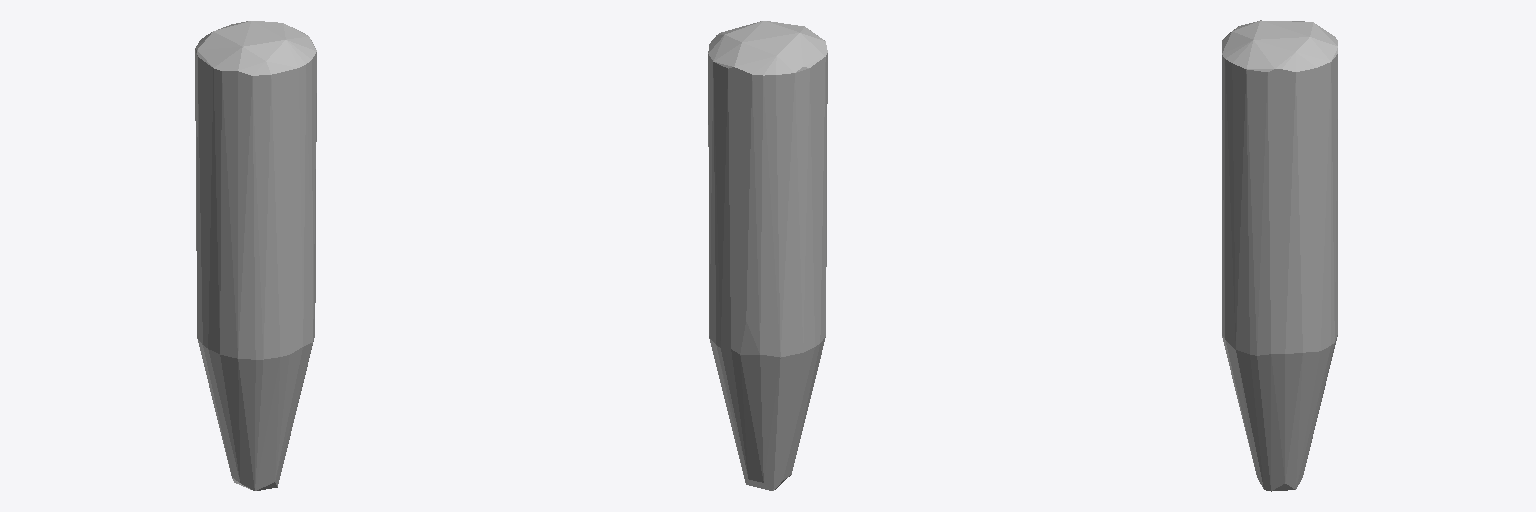
robot.urdf — root:
<robot name="root">
  <link name="link_fa44223c6f785c60e71da2487cb2ee5b_convex_piece_0">
    <inertial>
      <origin rpy="0 0 0" xyz="0 0 0"/>
      <mass value="2.26E-04"/>
      <inertia ixx="6.00E-07" ixy="-7.28E-12" ixz="-1.16E-10" iyy="6.00E-07" iyz="-3.11E-11" izz="5.81E-08"/>
    </inertial>
    <visual>
      <origin rpy="0 0 0" xyz="0 0 0"/>
      <geometry>
        <mesh filename="fa44223c6f785c60e71da2487cb2ee5b_convex_piece_0.obj" scale="1.0000E+00"/>
      </geometry>
      <material name="">
        <color rgba="7.50E-01 7.50E-01 7.50E-01 1"/>
      </material>
    </visual>
    <collision>
      <origin rpy="0 0 0" xyz="0 0 0"/>
      <geometry>
        <mesh filename="fa44223c6f785c60e71da2487cb2ee5b_convex_piece_0.obj" scale="1.0000E+00"/>
      </geometry>
    </collision>
  </link>
</robot>

--- Facts derived from the render (not from the file) ---
Views: 3 orthographic renders of the robot side by side, from view 1: azimuth 30°, elevation 25°; view 2: azimuth 150°, elevation 25°; view 3: azimuth 270°, elevation 25°.
Robot: root — 1 links, 0 joints (none); root link link_fa44223c6f785c60e71da2487cb2ee5b_convex_piece_0; default pose: all joints at 0.
Visible links, largest first — view 1: link_fa44223c6f785c60e71da2487cb2ee5b_convex_piece_0; view 2: link_fa44223c6f785c60e71da2487cb2ee5b_convex_piece_0; view 3: link_fa44223c6f785c60e71da2487cb2ee5b_convex_piece_0.
Link boxes in pixels (x1,y1,x2,y2): link_fa44223c6f785c60e71da2487cb2ee5b_convex_piece_0: (195, 21, 316, 490); link_fa44223c6f785c60e71da2487cb2ee5b_convex_piece_0: (708, 21, 827, 490); link_fa44223c6f785c60e71da2487cb2ee5b_convex_piece_0: (1222, 20, 1337, 491).
Size in the robot's own frame: 0.0465 by 0.0465 by 0.1985 metres.
1 mesh visuals loaded from 1 distinct referenced files (1 OBJ).